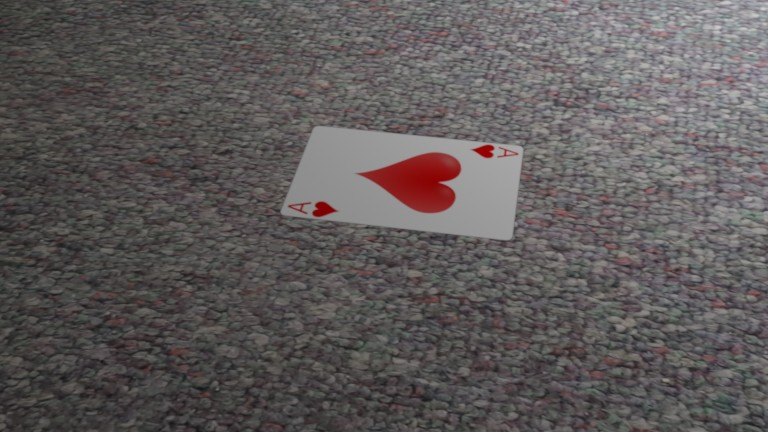ace_of_hearts: (283, 196, 342, 220), (468, 142, 520, 163)
